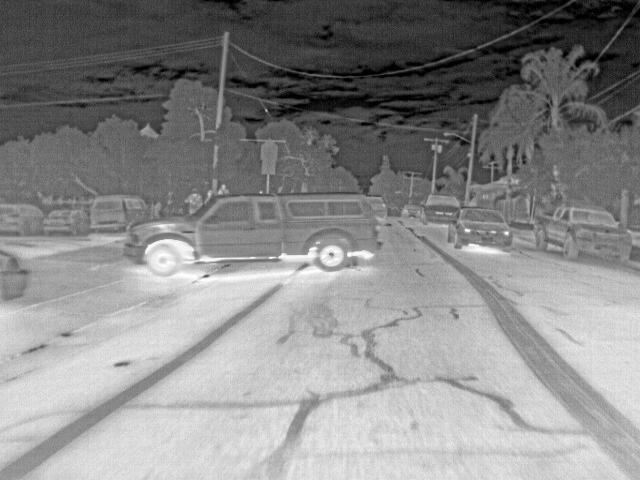car: (123, 192, 381, 278), (533, 202, 632, 262), (446, 205, 512, 253), (87, 194, 149, 236), (1, 248, 29, 300), (41, 207, 88, 237), (2, 204, 44, 237), (423, 192, 459, 225), (367, 195, 388, 219), (400, 204, 421, 218)
person: (187, 188, 204, 214), (216, 181, 229, 195)
